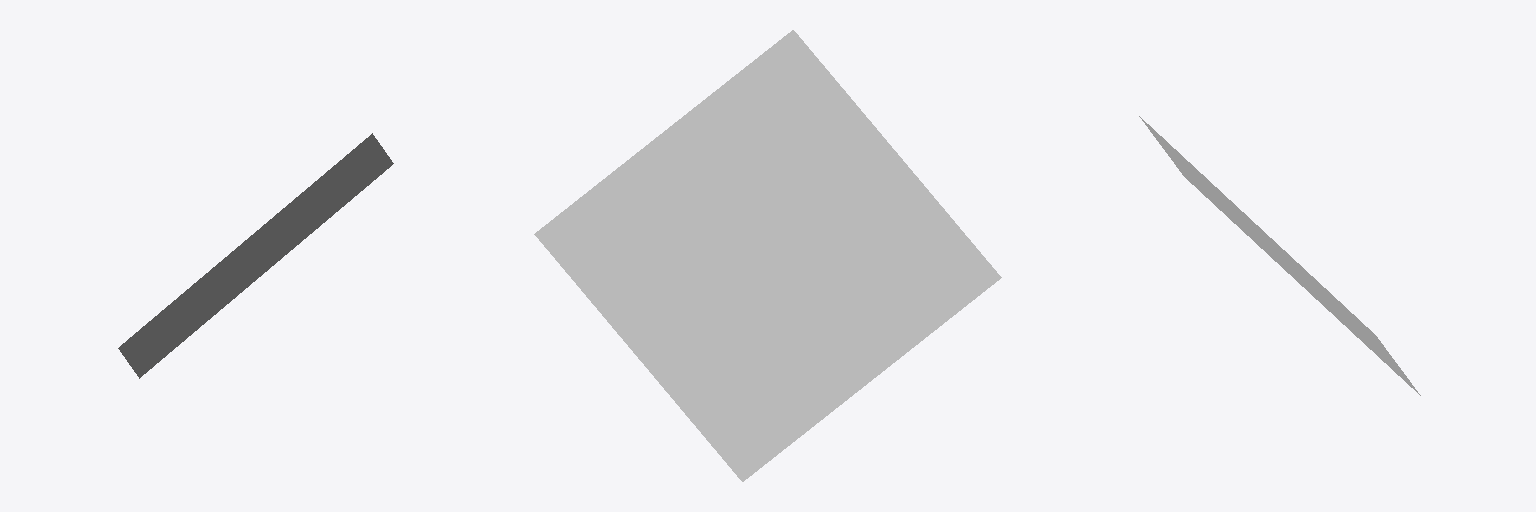
The picture shows the model from 3 angles: view 1: azimuth 30°, elevation 25°; view 2: azimuth 150°, elevation 25°; view 3: azimuth 270°, elevation 25°; orthographic projection.
Visible parts, largest first — view 1: mmGroup0; view 2: mmGroup0; view 3: mmGroup0.
Part boxes in pixels (left/top/right/bottom): mmGroup0: left=118, top=133, right=393, bottom=378; mmGroup0: left=534, top=30, right=1001, bottom=481; mmGroup0: left=1139, top=116, right=1420, bottom=395.
Bounding box in the file's own units: 32.24 × 27.08 × 21.31.